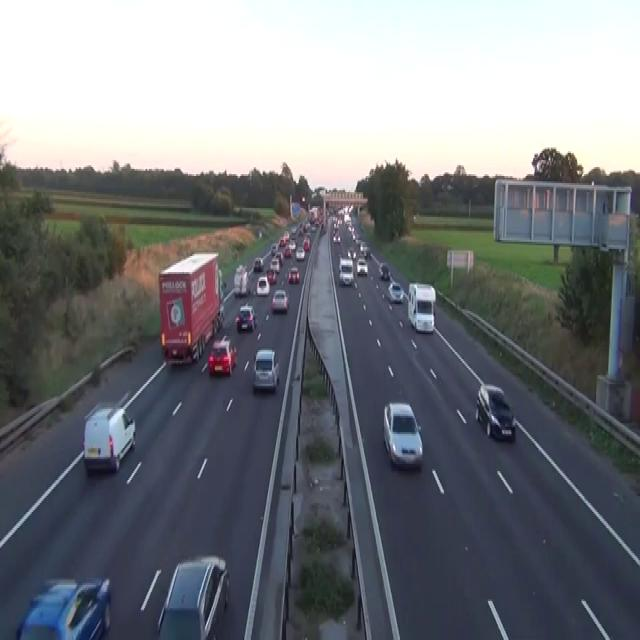Car: (156, 555, 229, 638), (15, 576, 111, 638), (82, 402, 135, 473), (382, 400, 423, 469), (475, 382, 516, 441), (207, 336, 237, 375), (252, 349, 279, 391), (235, 304, 257, 331), (271, 288, 289, 313), (338, 258, 353, 284), (387, 281, 403, 302), (256, 276, 270, 295), (378, 261, 390, 279), (217, 302, 225, 327), (288, 265, 299, 283), (356, 258, 367, 276), (359, 242, 370, 258), (253, 256, 263, 272), (270, 258, 280, 274), (267, 268, 276, 282), (274, 251, 283, 265), (347, 247, 356, 260), (296, 246, 304, 260), (270, 242, 278, 256), (441, 182, 455, 190), (219, 302, 225, 320), (302, 237, 310, 250), (288, 238, 296, 251), (283, 245, 291, 258), (332, 233, 340, 243), (355, 233, 363, 243), (320, 222, 326, 235), (344, 213, 351, 224), (278, 237, 285, 247), (290, 226, 297, 236), (283, 231, 289, 242), (233, 204, 240, 213), (303, 221, 309, 231), (310, 224, 316, 231), (258, 230, 262, 238)
Truck: (158, 250, 223, 364), (407, 281, 435, 332), (233, 263, 249, 297), (308, 204, 320, 224)
